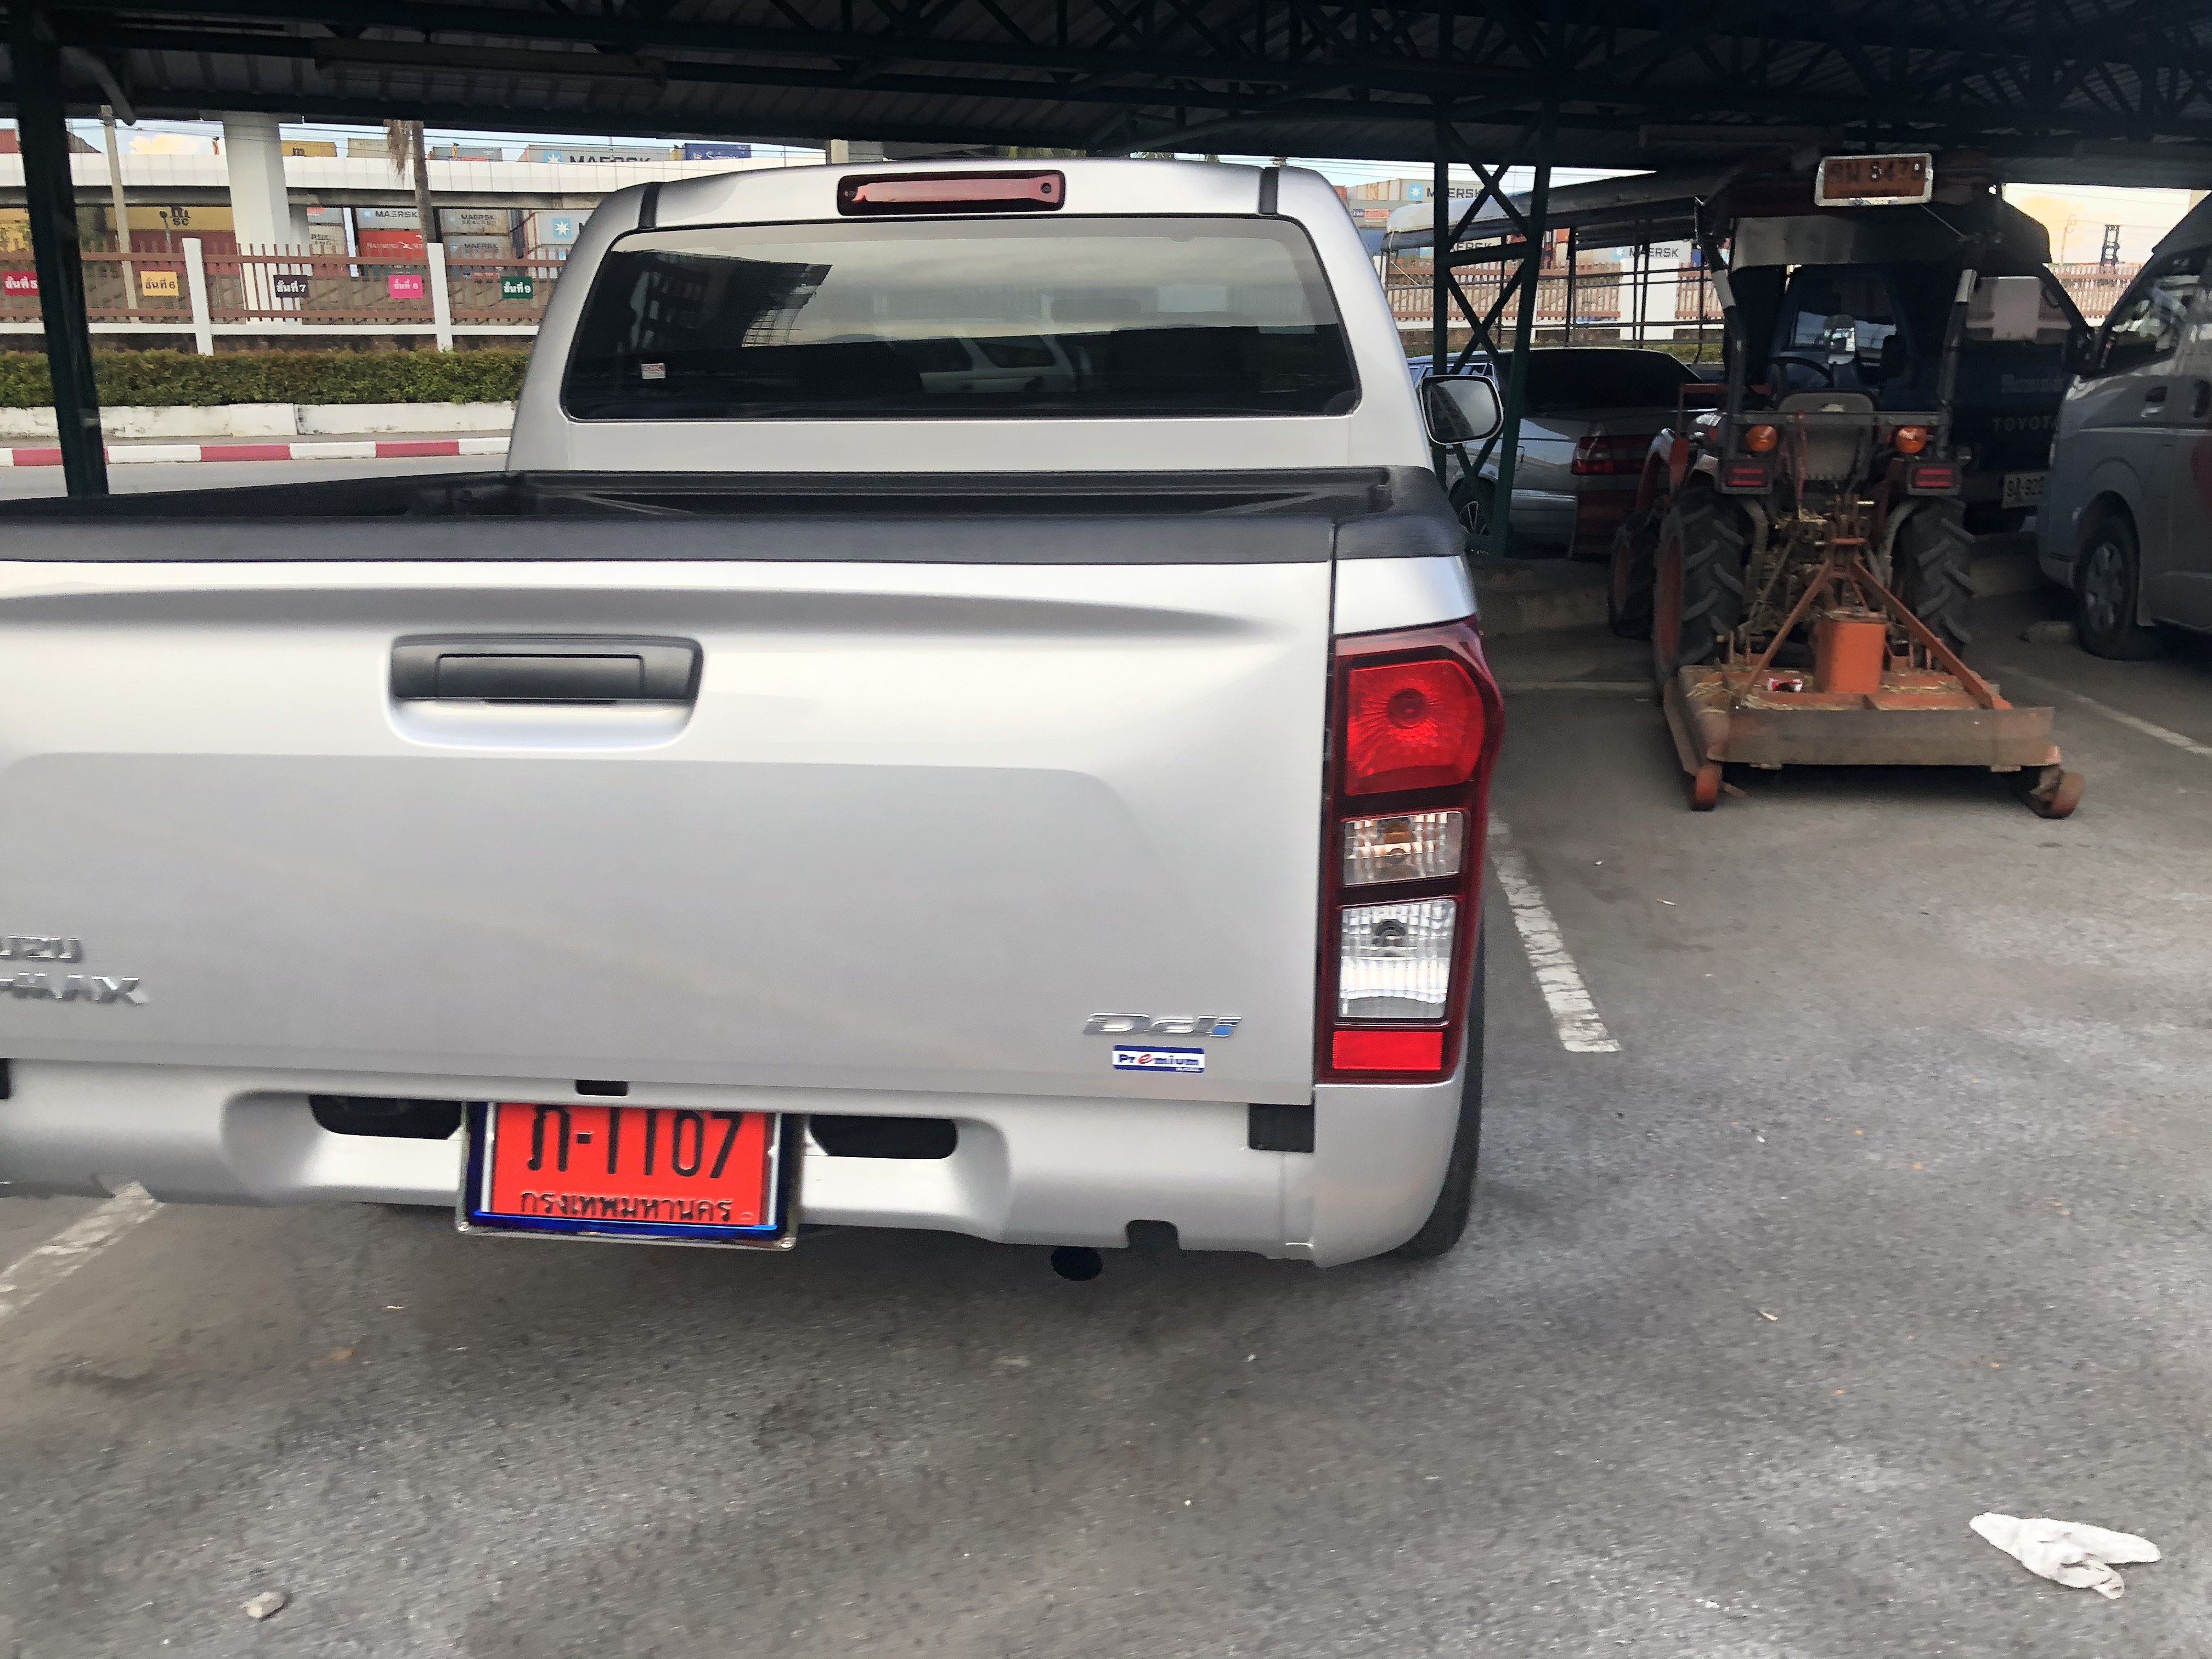in: (489, 1094, 766, 1225)
out: (462, 1080, 803, 1249)
